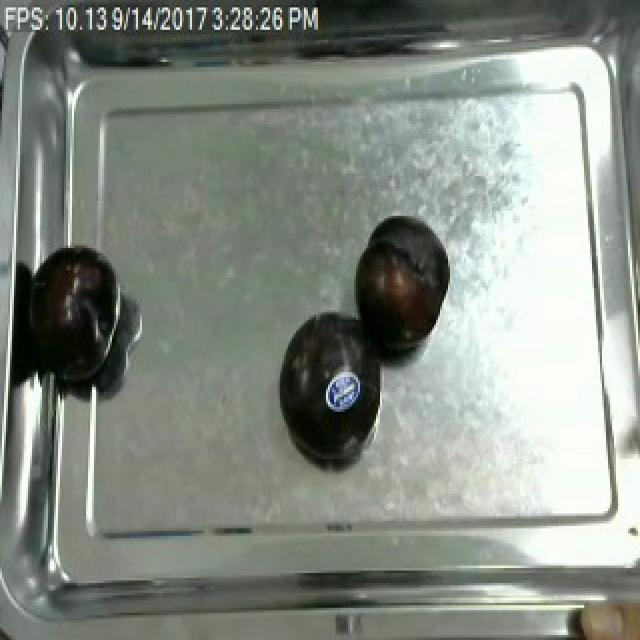Fruit: (270, 300, 380, 467), (348, 213, 456, 360), (32, 240, 126, 390), (568, 580, 640, 640)
